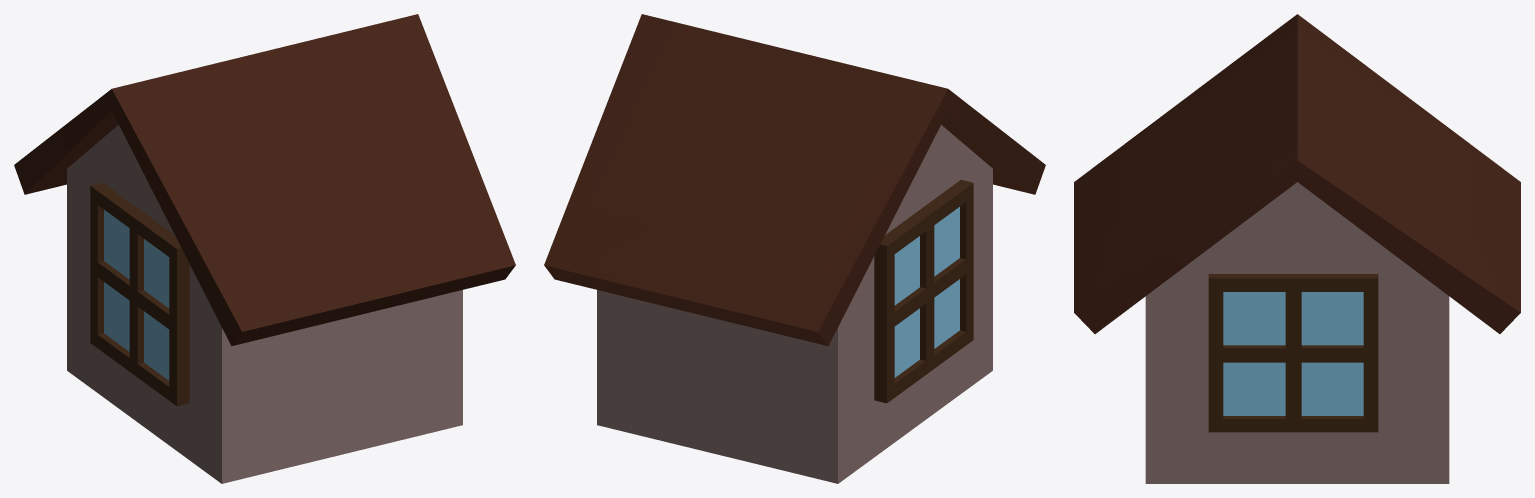
The model's file is House_Roof.fbx.
3 views of the same model, side by side, from view 1: azimuth 30°, elevation 25°; view 2: azimuth 150°, elevation 25°; view 3: azimuth 270°, elevation 25° (orthographic). The views are drawn at different scales.
Visible parts, largest first — view 1: House_Roof; view 2: House_Roof; view 3: House_Roof.
Part boxes in pixels (box(x1,y1,x2,y2)): House_Roof: box(14, 14, 515, 483); House_Roof: box(544, 14, 1045, 483); House_Roof: box(1074, 14, 1520, 483).
Bounding box in the file's own units: 11.11 × 12.01 × 14.34.
